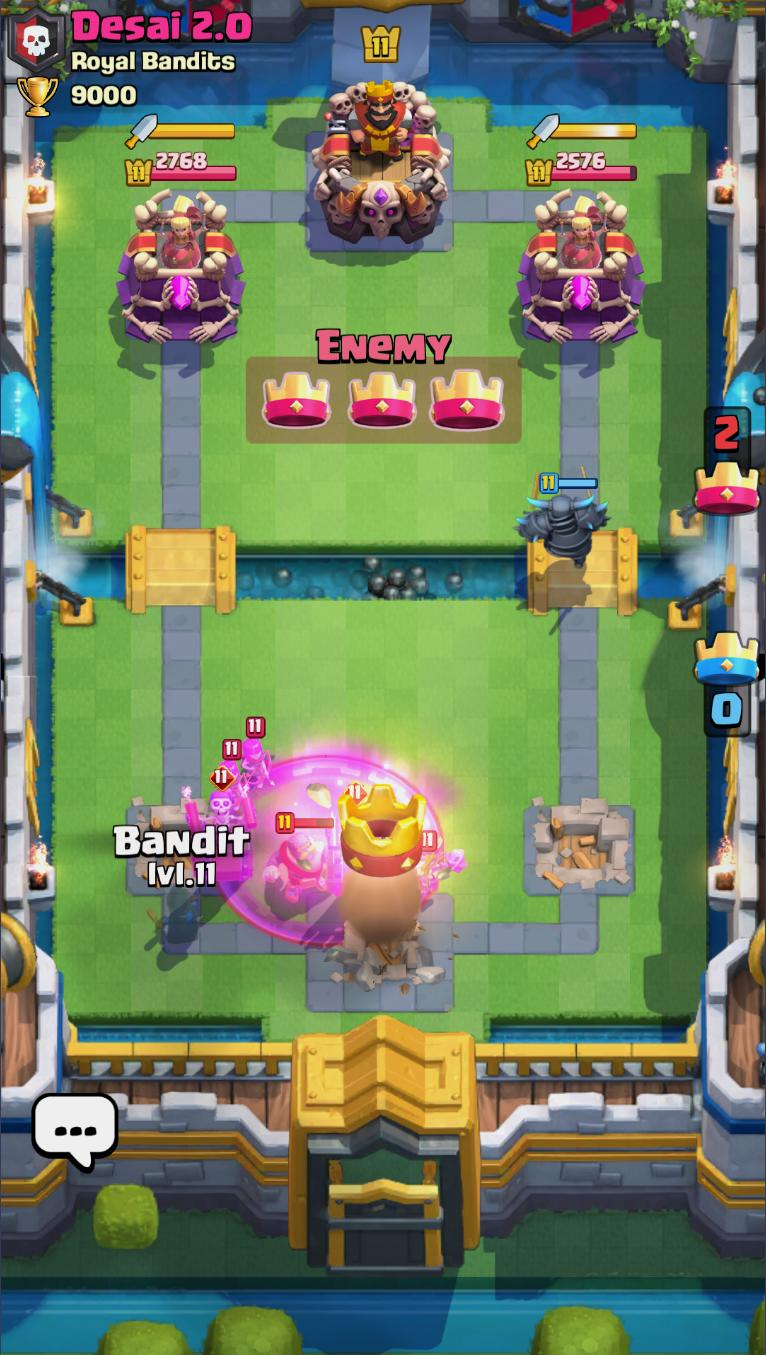Archer: (234, 714, 279, 790), (200, 737, 243, 804)
BushGoblins: (410, 831, 467, 899), (380, 830, 419, 866)
DaggerDuchess: (154, 196, 211, 273), (554, 194, 609, 273)
Daggers: (124, 113, 241, 150), (526, 113, 640, 146)
EnemyTower: (516, 189, 649, 349), (119, 184, 249, 347)
EvoWallBreackers: (180, 767, 261, 891)
KingTower: (314, 76, 456, 246)
Knight: (276, 810, 336, 904)
MyKingTowerBrocken: (306, 859, 456, 1011)
MyPekka: (514, 464, 606, 573)
MyPrincessTowerBrocken: (124, 797, 246, 899), (526, 799, 640, 893)
Rage: (211, 753, 444, 946)
TowerPrincessHP: (524, 147, 640, 187), (124, 150, 240, 187)
